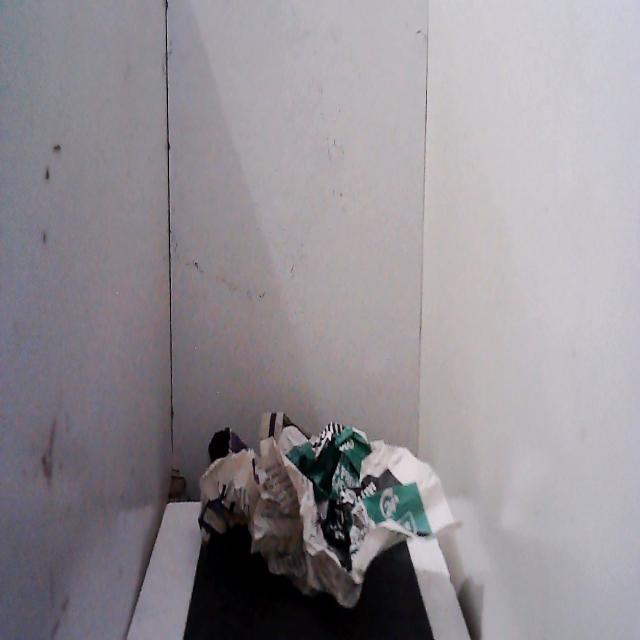papel: (193, 396, 466, 614)
